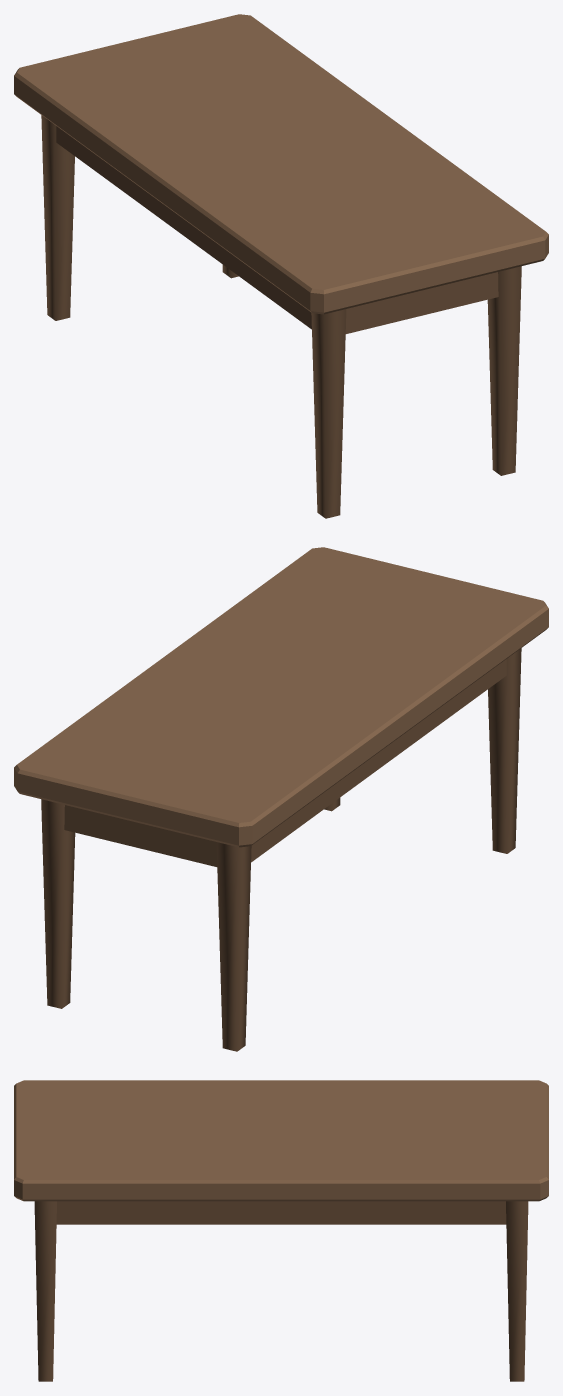
Rendered from desk.glb.
3 renders of one model, top to bottom at view 1: azimuth 30°, elevation 25°; view 2: azimuth 150°, elevation 25°; view 3: azimuth 270°, elevation 25°, orthographic. The views are drawn at different scales.
Size of the model in its own units: 0.816 by 0.79 by 1.82.
